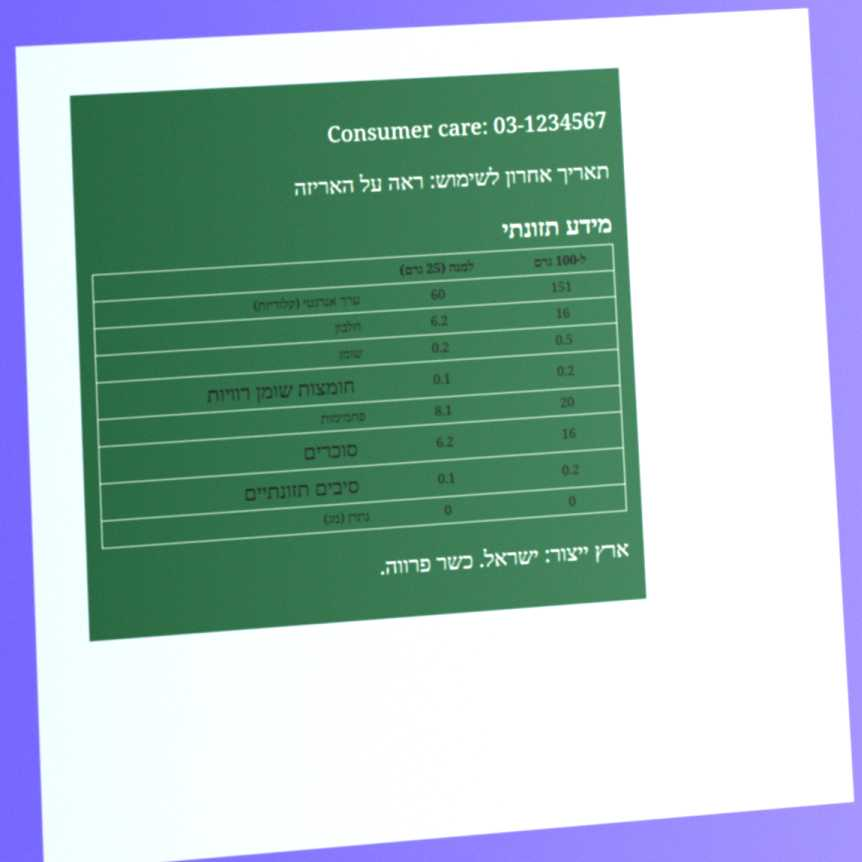carbs: (558, 391, 577, 414)
energy: (548, 275, 575, 298)
fat: (553, 328, 576, 351)
protein: (553, 302, 573, 325)
